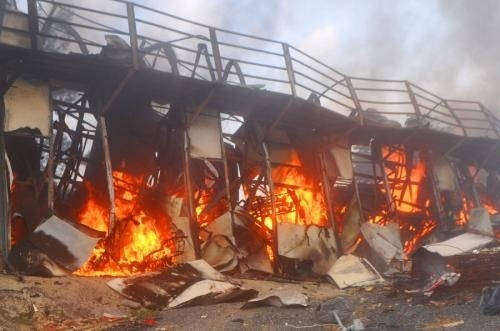fire: (72, 167, 178, 276), (373, 150, 431, 233), (267, 155, 327, 225)
